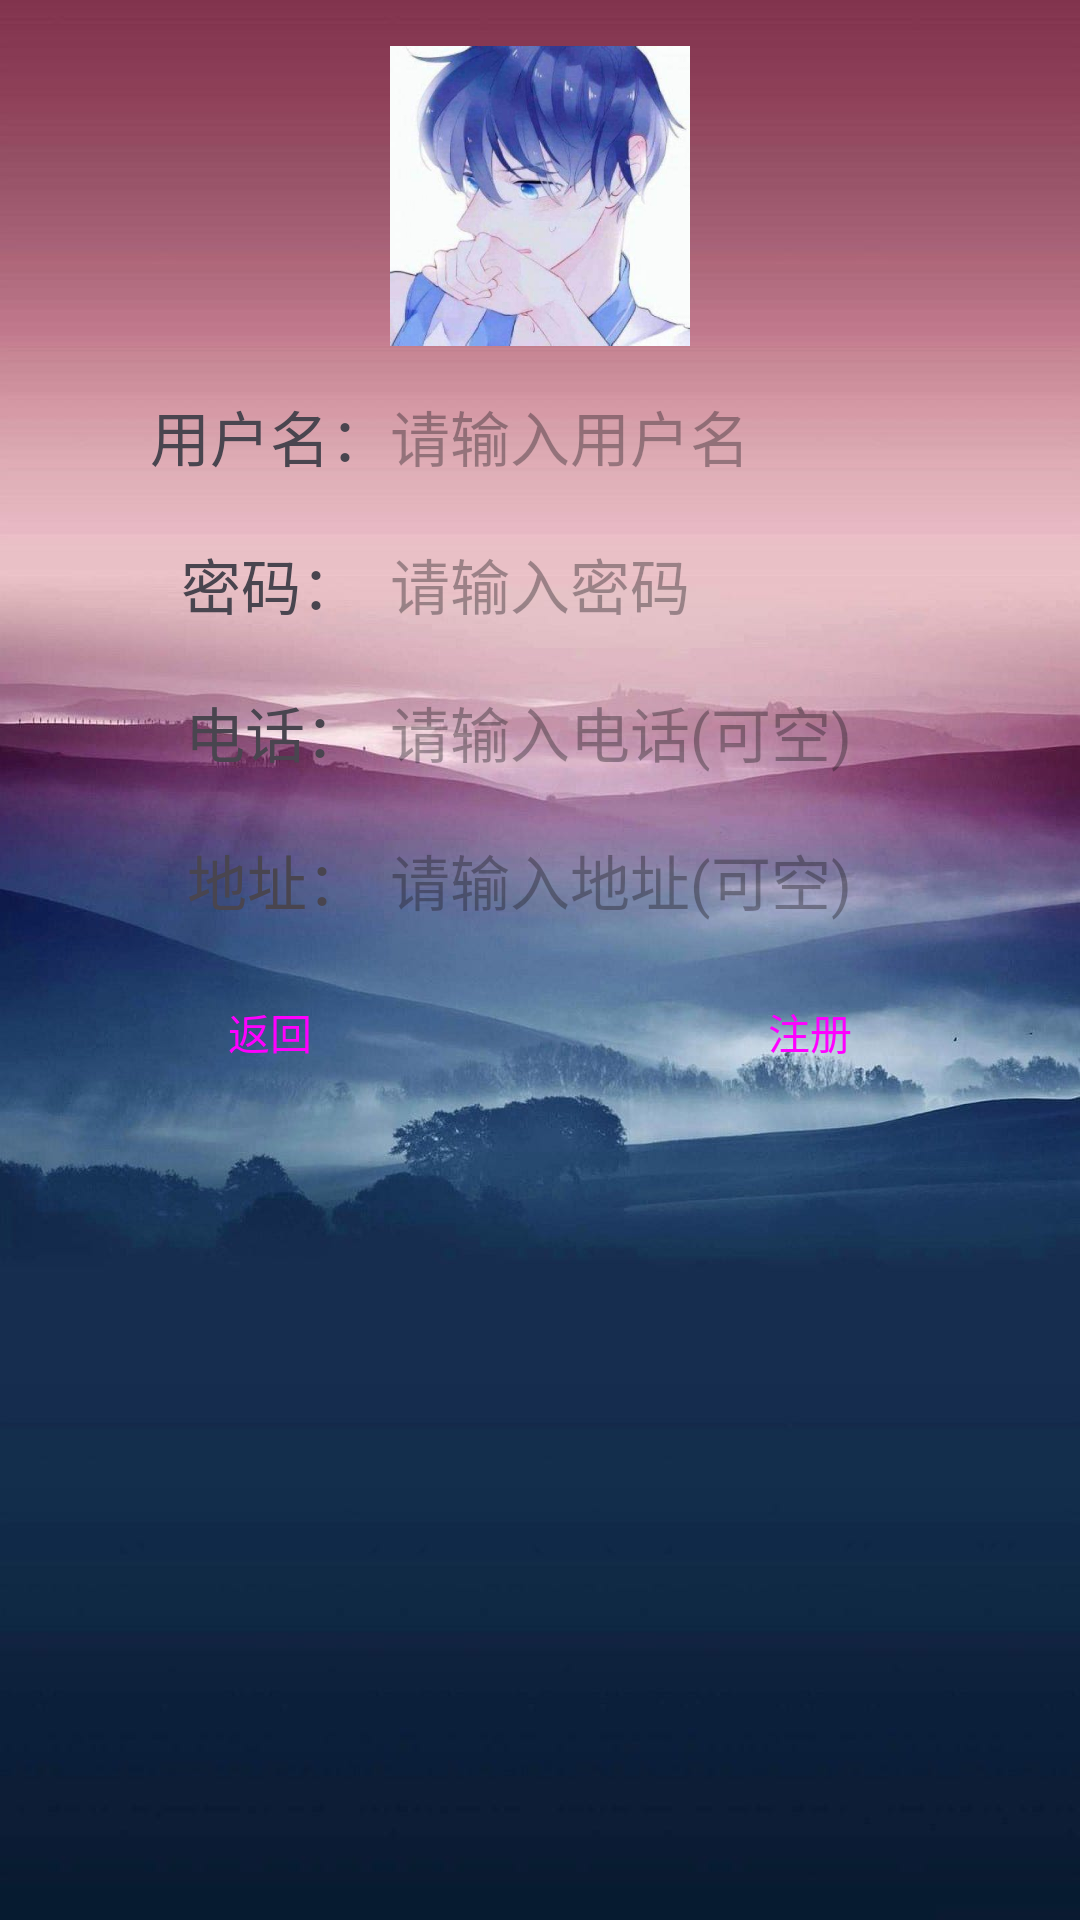

Where to tap for icons on this 1080x1920 app screen, as point (x, y):
head: point (540, 196)
